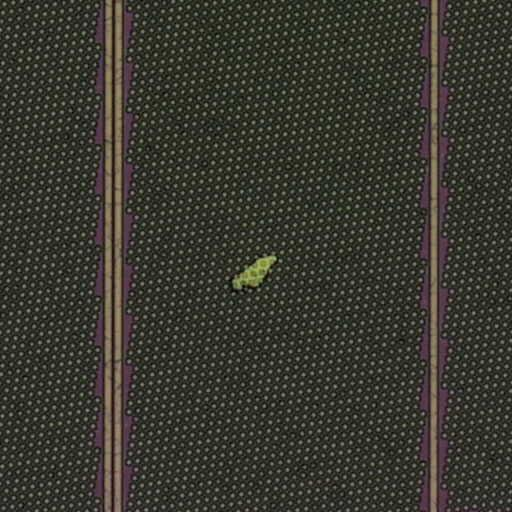BLOCK ETCH: (227, 251, 282, 297)
